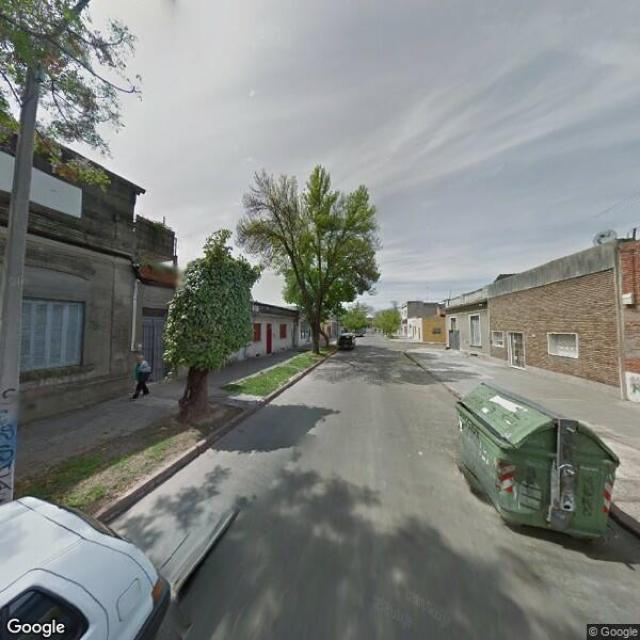garbage container: (446, 377, 629, 560)
